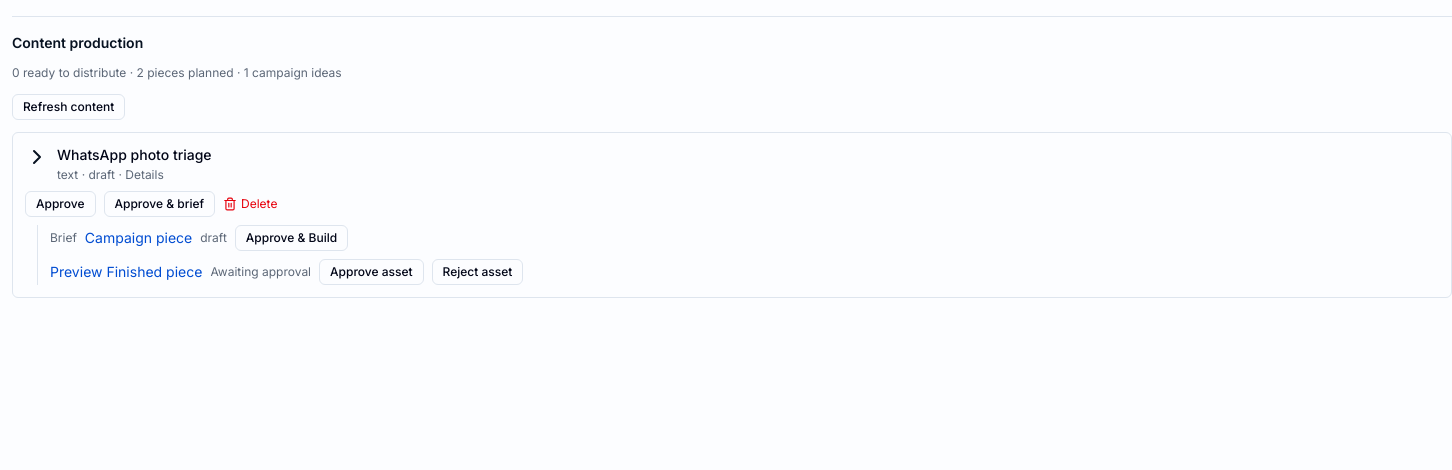
requires a rejection reason and surfaces review failures
Click the button "Reject asset" at (478, 272), box [432,259,523,285]
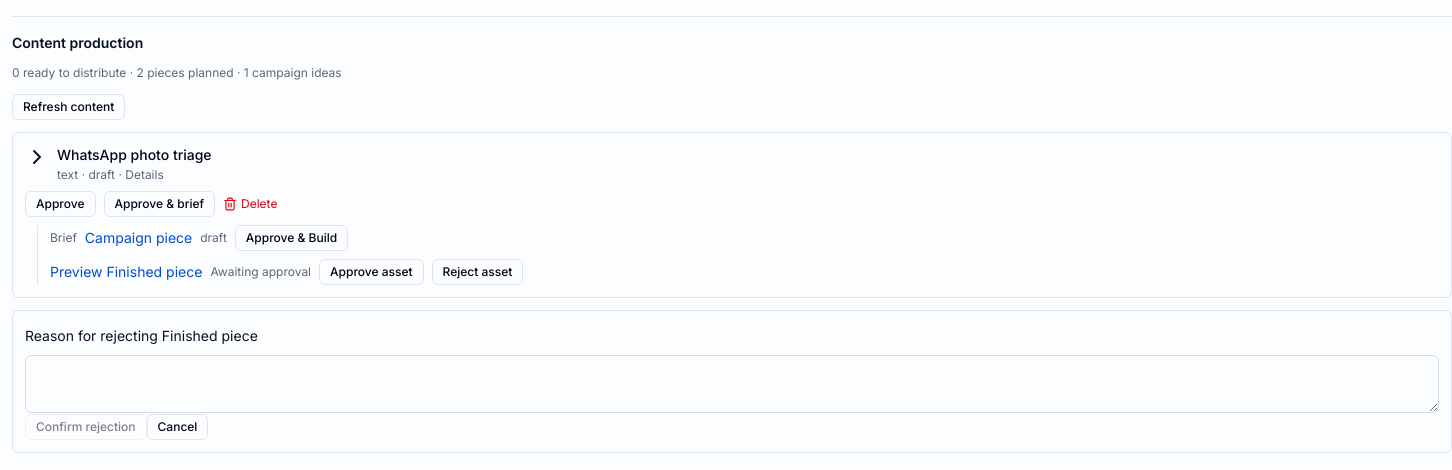
expect the button "Confirm rejection" is disabled: met, box [25,414,147,440]
Type "Wrong logo" into the text box at (732, 384), box [25,355,1439,413]
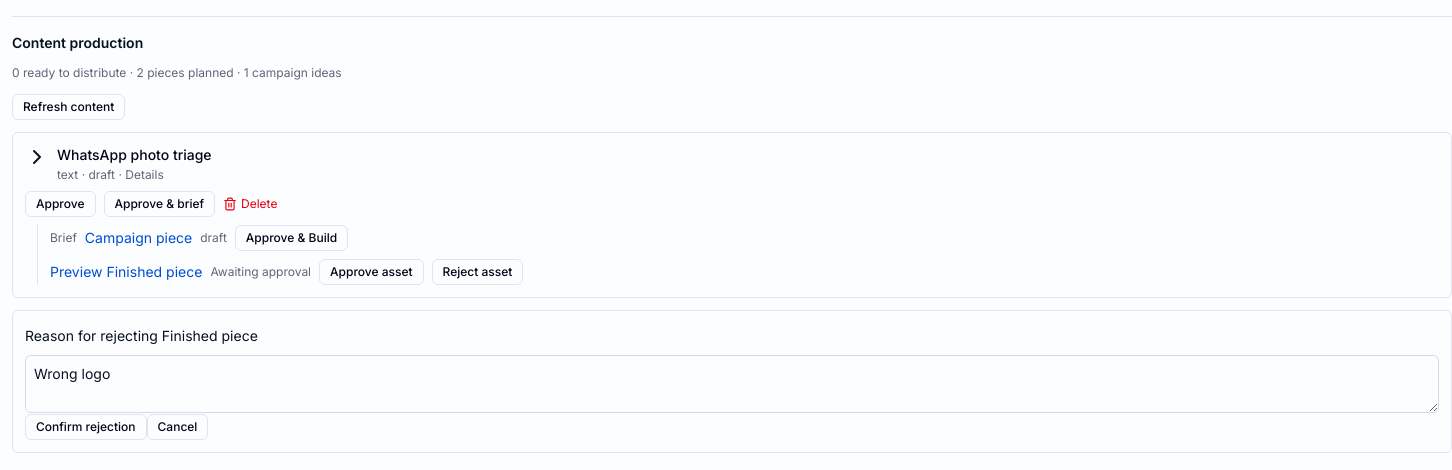
Click the button "Confirm rejection" at (86, 427), box [25,414,147,440]
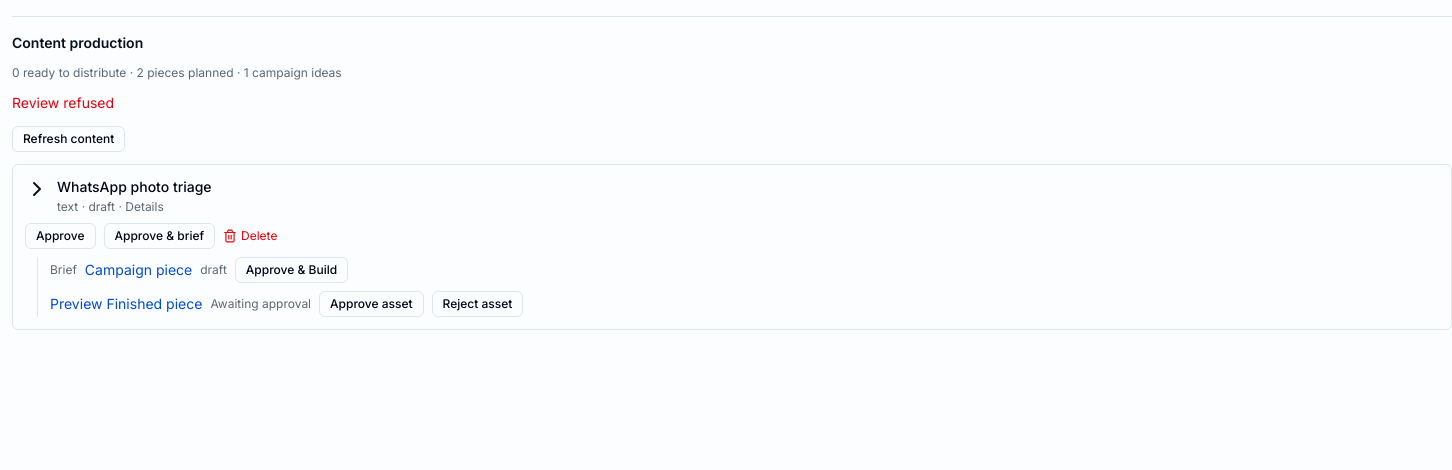
expect the message reads "Review refused": met, box [12,94,114,111]
